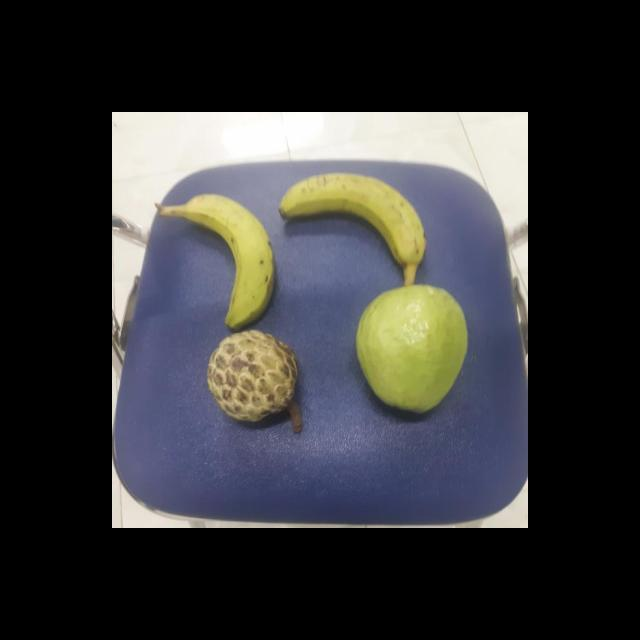Sakya fruit: (201, 328, 299, 422)
banana: (274, 164, 429, 274), (174, 188, 280, 332)
guava: (354, 283, 471, 417)
